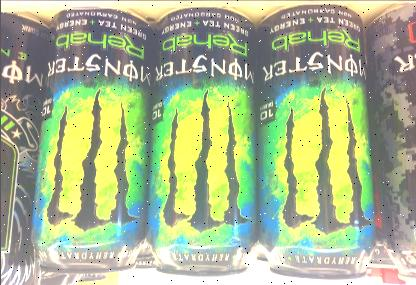Can: (252, 3, 376, 280), (28, 1, 152, 276), (143, 3, 255, 276)
